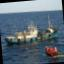fishing boat: (2, 12, 61, 46)
